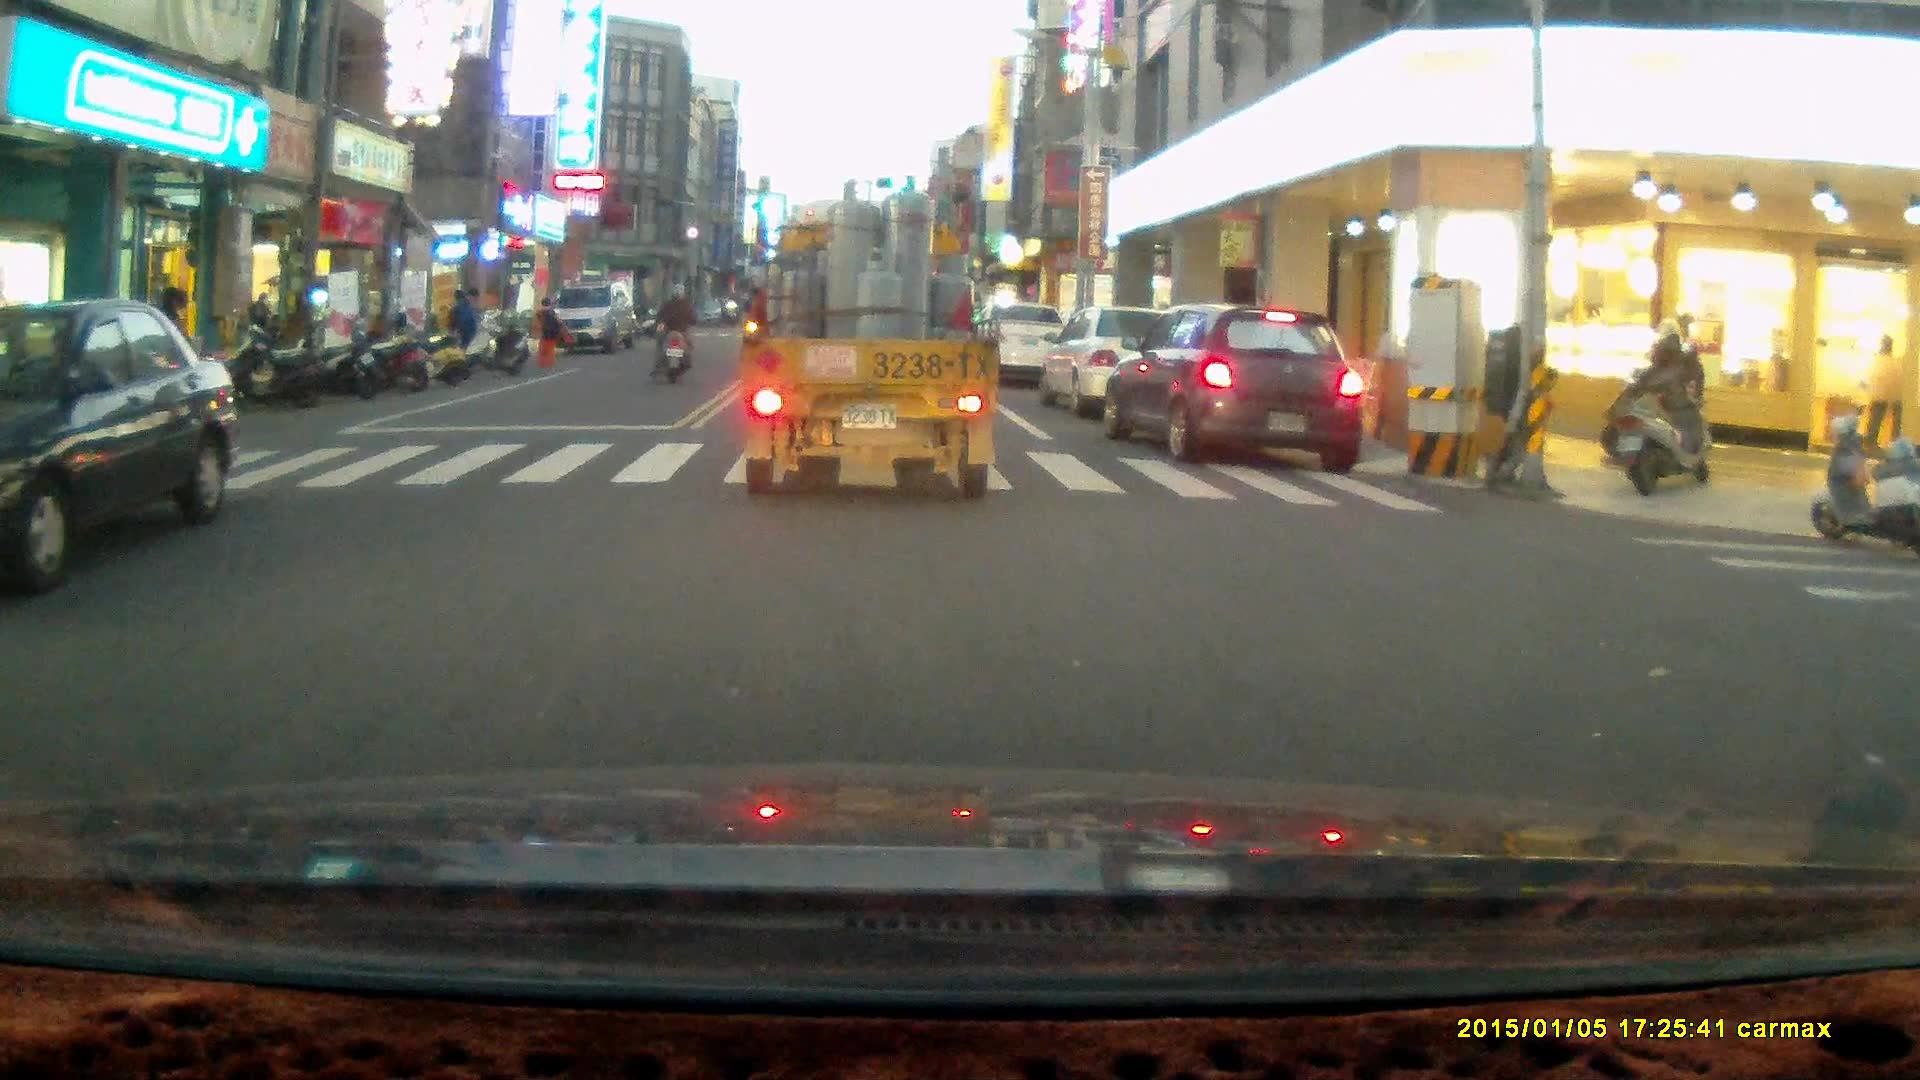pedestrian: (446, 283, 482, 370), (530, 293, 567, 368)
rider: (1598, 316, 1707, 470), (648, 278, 695, 384)
vehicle: (740, 172, 1000, 504), (1, 297, 235, 600), (1107, 302, 1363, 471), (1049, 305, 1216, 421), (974, 300, 1077, 390), (546, 280, 639, 356)
